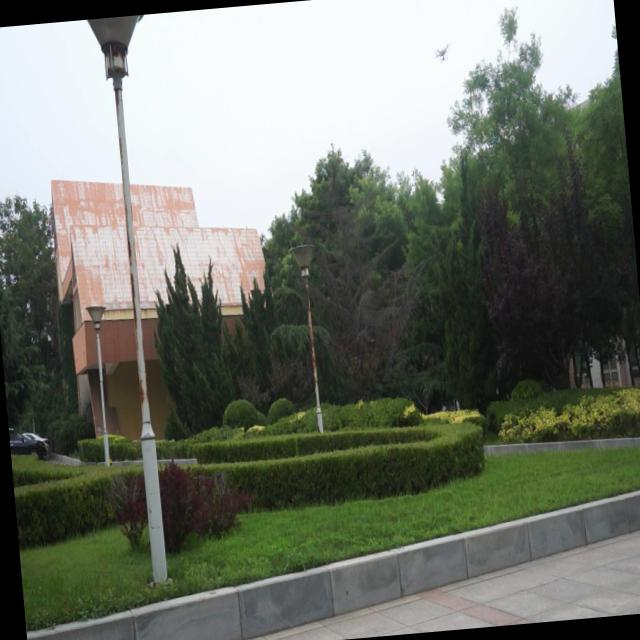drone: (432, 37, 452, 68)
